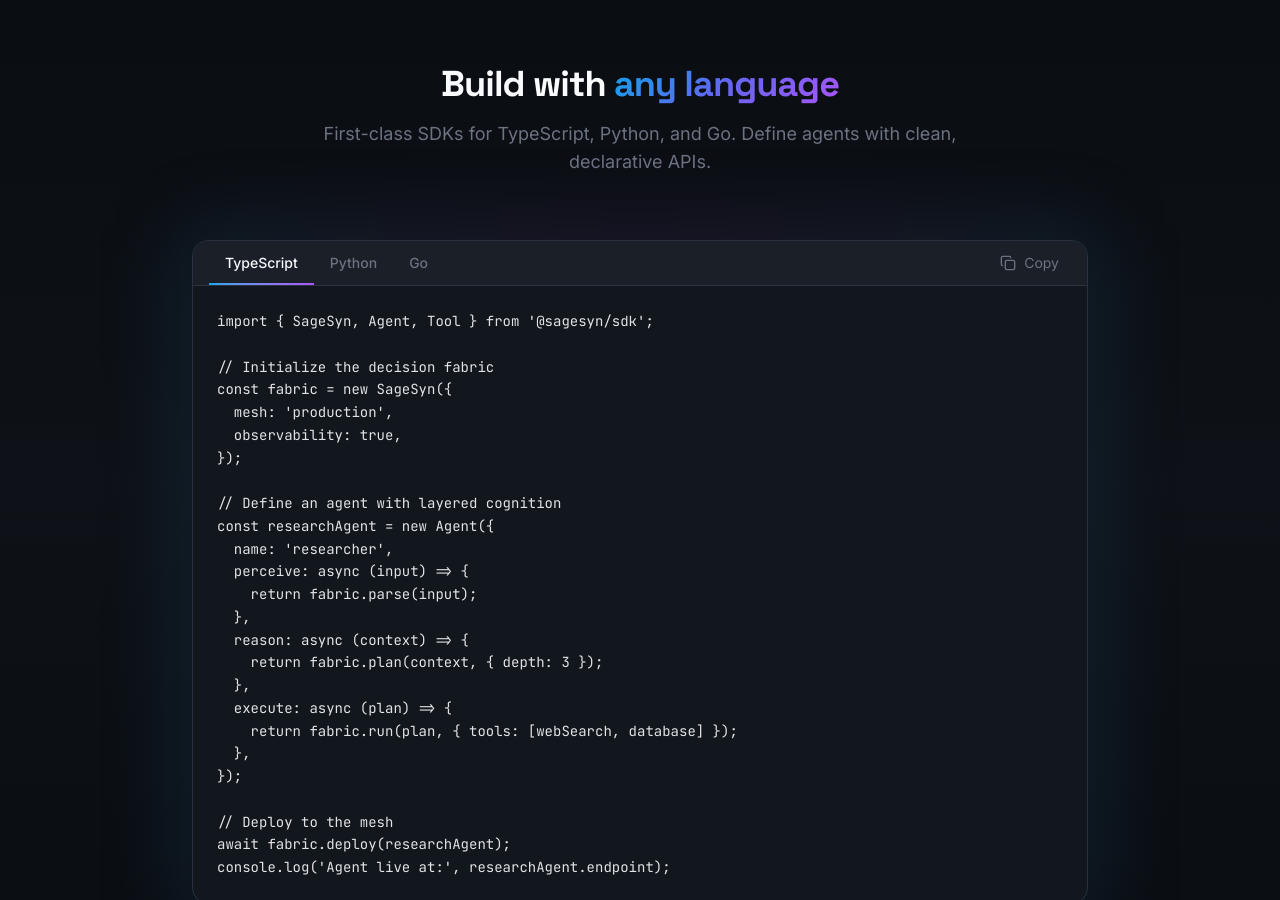
Test: CodeShowcase component › switches to Go code when Go tab is clicked
Click the button "Go": x=419, y=263 393,241 -> 444,285
(page scrolled)
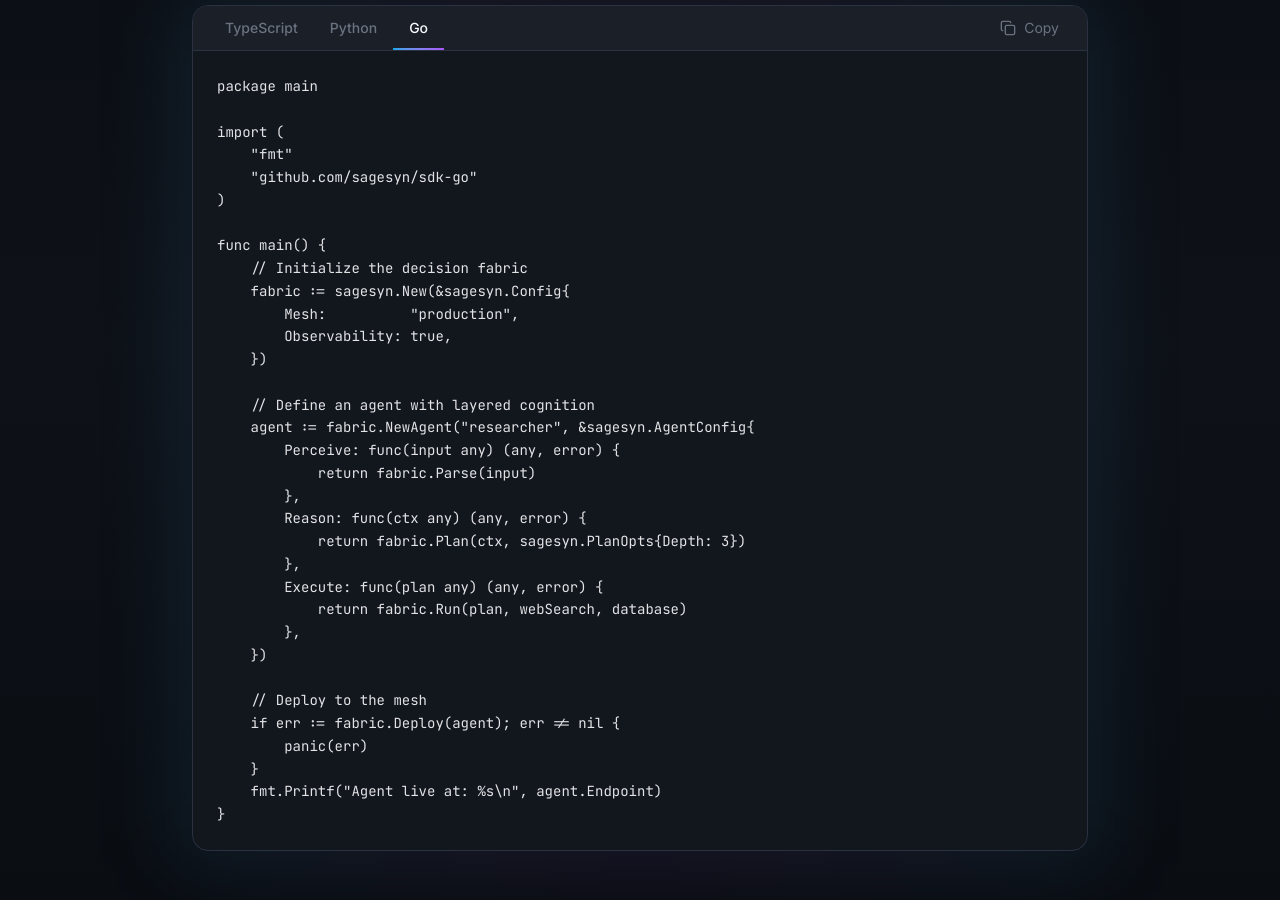
Expected: the text "github.com/sagesyn/sdk-go" is shown, 217,77 -> 755,823
